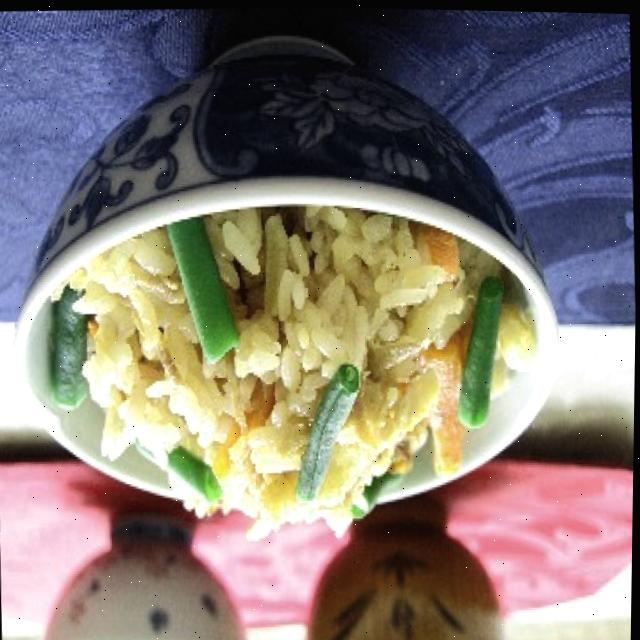米饭主食: (32, 208, 537, 549)
